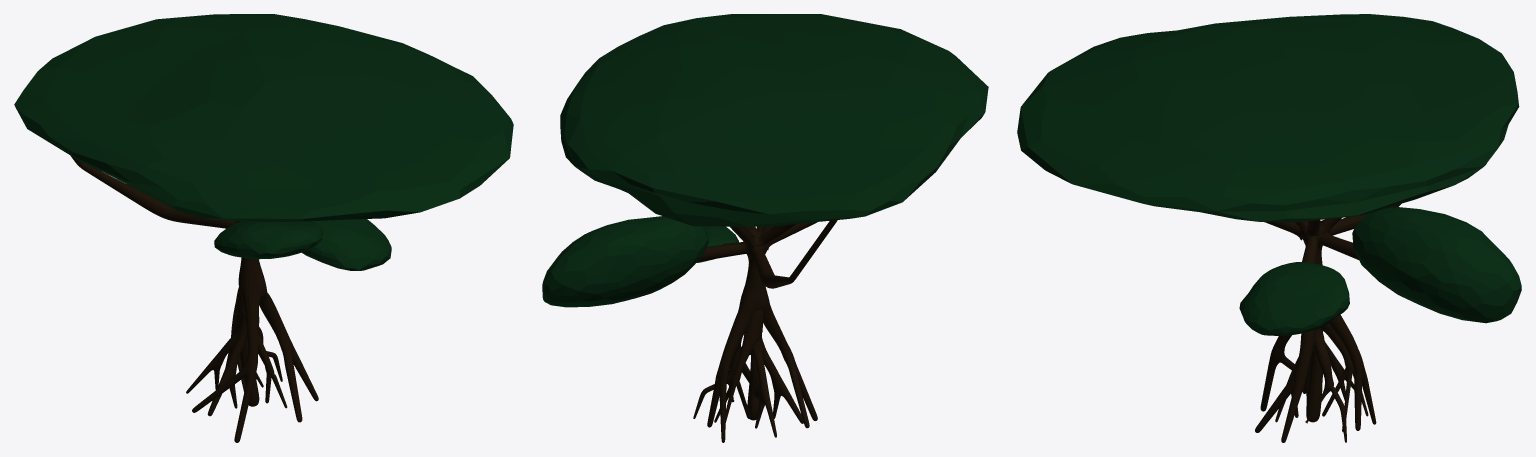
File: testTree.fbx
3 views of the same model, side by side, from view 1: azimuth 30°, elevation 25°; view 2: azimuth 150°, elevation 25°; view 3: azimuth 270°, elevation 25° (orthographic). The views are drawn at different scales.
Visible parts, largest first — view 1: Icosphere_LOD0; view 2: Icosphere_LOD0; view 3: Icosphere_LOD0.
Part boxes in pixels (x1,y1,x2,y2): Icosphere_LOD0: (14,14,513,442); Icosphere_LOD0: (542,14,988,442); Icosphere_LOD0: (1017,14,1521,442).
Size of what is drawn, in the model's own units: 2592 by 2174 by 2870.
